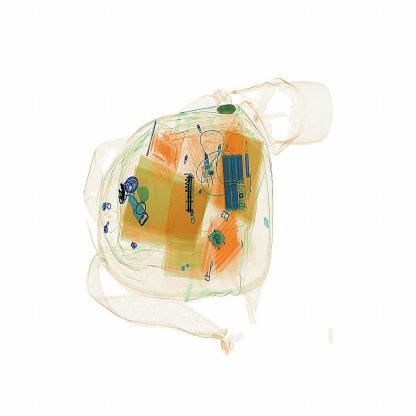scissors: (182, 159, 202, 228)
